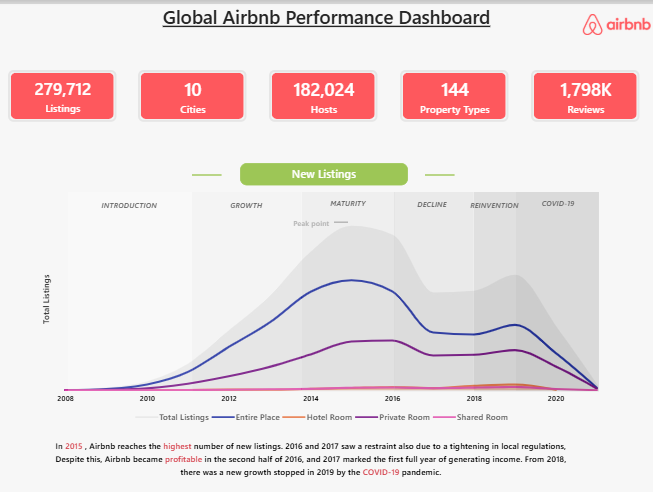

Layout of this report page (visuals, bound fields, positions):
{"tool":"powerbi","page":{"name":"Overview","canvas":[960,720],"ordinal":0},"visuals":[{"type":"textbox","box":[235,0,490,57],"z":0},{"type":"image","box":[842.5,13.8,105,30],"z":1000},{"type":"cardVisual","fields":{"Data":["CountNonNull(Listings.listing_id)"]},"box":[25,93.8,155,74],"z":2000},{"type":"cardVisual","fields":{"Data":["Count(Listings.city)"]},"box":[211.9,93.8,155,74],"z":3000},{"type":"cardVisual","fields":{"Data":["Count(Listings.host_id)"]},"box":[398.8,93.8,155,74],"z":4000},{"type":"cardVisual","fields":{"Data":["Count(Listings.property_type)"]},"box":[585.6,93.8,155,74],"z":5000},{"type":"cardVisual","fields":{"Data":["Sum(Listings.review_scores_accuracy)"]},"box":[772.5,93.8,155,74],"z":6000},{"type":"lineChart","fields":{"Category":["Listings.host_since.Variation.Date Hierarchy.Year"],"Y":["CountNonNull(Listings.listing_id)","Listings.Entire Place","Listings.Hotel Room","Listings.Private Room","Listings.Shared Room"]},"box":[58.8,268.8,836.2,351.2],"z":7000},{"type":"textbox","box":[356.7,227.8,240,32.2],"z":8000},{"type":"shape","box":[288.9,94.4,42.2,300],"z":9000},{"type":"shape","box":[621.1,94.4,42.2,300],"z":10000},{"type":"shape","box":[111.2,268.8,177.5,285],"z":11000},{"type":"shape","box":[288.8,268.8,156.2,285],"z":12000},{"type":"shape","box":[445,268.8,132.5,285],"z":13000},{"type":"shape","box":[577.5,268.8,113.8,285],"z":14000},{"type":"shape","box":[691.2,268.8,60,285],"z":15000},{"type":"shape","box":[751.8,268.9,118.6,284.8],"z":16000},{"type":"textbox","box":[127.5,272.5,143.8,31.2],"z":17000},{"type":"textbox","box":[310,272.5,112.5,25],"z":18000},{"type":"textbox","box":[465,270,91.2,30],"z":19000},{"type":"textbox","box":[596.2,272.5,71.2,25],"z":20000},{"type":"textbox","box":[686.2,275,70,26.2],"z":21000},{"type":"textbox","box":[761.2,271.2,100,27.5],"z":22000},{"type":"textbox","box":[99.8,99.8,79.5,96.9],"z":23000},{"type":"textbox","box":[422.2,300.7,72.3,23.1],"z":24000},{"type":"shape","box":[491.6,287.7,20.2,49.2],"z":25000},{"type":"textbox","box":[56.4,620.2,805.3,66.5],"z":26000}]}

Visuals, with their boxes in screenshot pixels (x1, y1, x2, y2), scaled from the page's 960x720 canvas onto the 653x492 screenshot:
textbox: left=160, top=0, right=493, bottom=39
image: left=573, top=9, right=644, bottom=30
cardVisual - CountNonNull(Listings.listing_id): left=17, top=64, right=122, bottom=115
cardVisual - Count(Listings.city): left=144, top=64, right=250, bottom=115
cardVisual - Count(Listings.host_id): left=271, top=64, right=377, bottom=115
cardVisual - Count(Listings.property_type): left=398, top=64, right=504, bottom=115
cardVisual - Sum(Listings.review_scores_accuracy): left=525, top=64, right=631, bottom=115
lineChart - Listings.host_since.Variation.Date Hierarchy.Year x CountNonNull(Listings.listing_id): left=40, top=184, right=609, bottom=424
textbox: left=243, top=156, right=406, bottom=178
shape: left=197, top=65, right=225, bottom=270
shape: left=422, top=65, right=451, bottom=270
shape: left=76, top=184, right=196, bottom=378
shape: left=196, top=184, right=303, bottom=378
shape: left=303, top=184, right=393, bottom=378
shape: left=393, top=184, right=470, bottom=378
shape: left=470, top=184, right=511, bottom=378
shape: left=511, top=184, right=592, bottom=378
textbox: left=87, top=186, right=185, bottom=208
textbox: left=211, top=186, right=287, bottom=203
textbox: left=316, top=184, right=378, bottom=205
textbox: left=406, top=186, right=454, bottom=203
textbox: left=467, top=188, right=514, bottom=206
textbox: left=518, top=185, right=586, bottom=204
textbox: left=68, top=68, right=122, bottom=134
textbox: left=287, top=205, right=336, bottom=221
shape: left=334, top=197, right=348, bottom=230
textbox: left=38, top=424, right=586, bottom=469
